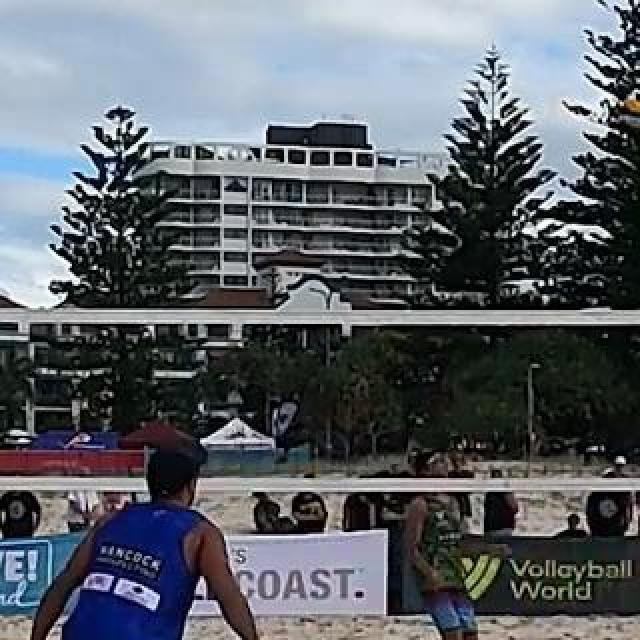volleyball: (624, 88, 640, 118)
